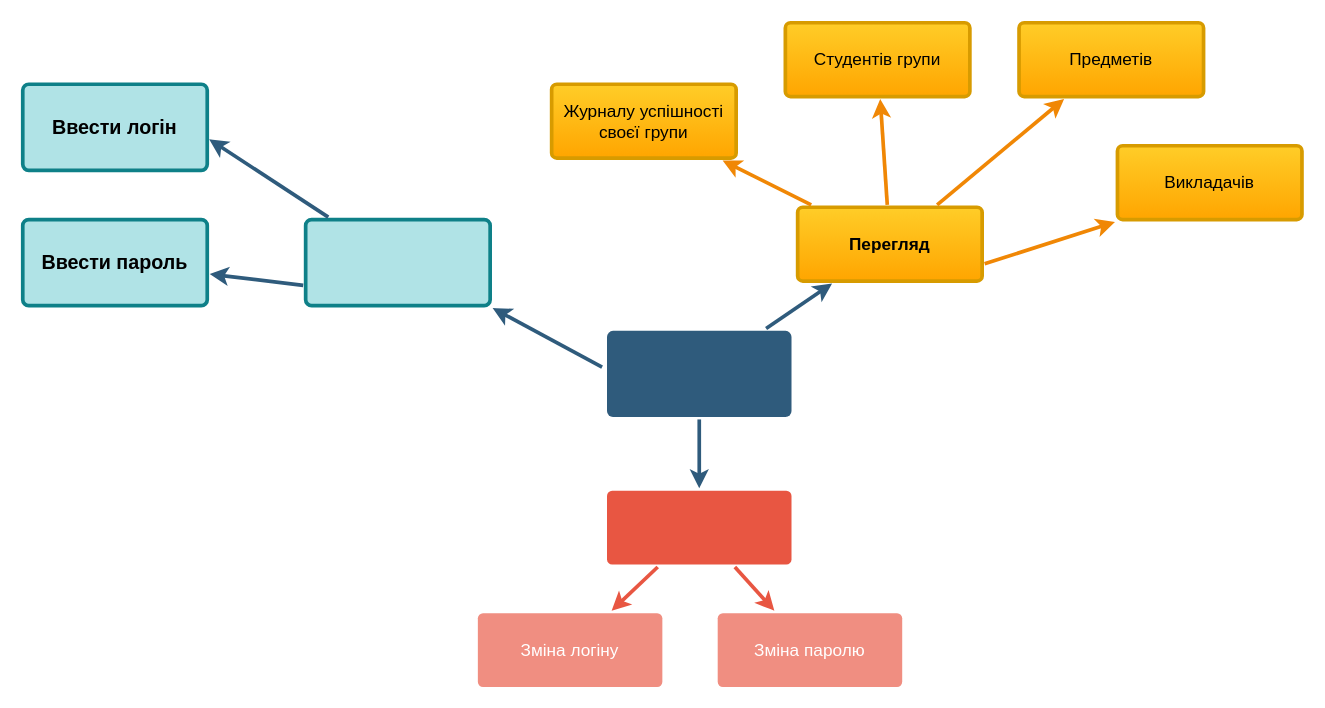
This 1325x708 diagram has some shape labels left out. Each missing label, with the box of its shape:
Вхід до системи: (303, 217, 491, 307)
Змінна даних: (606, 490, 791, 564)
Студент: (606, 330, 791, 416)
